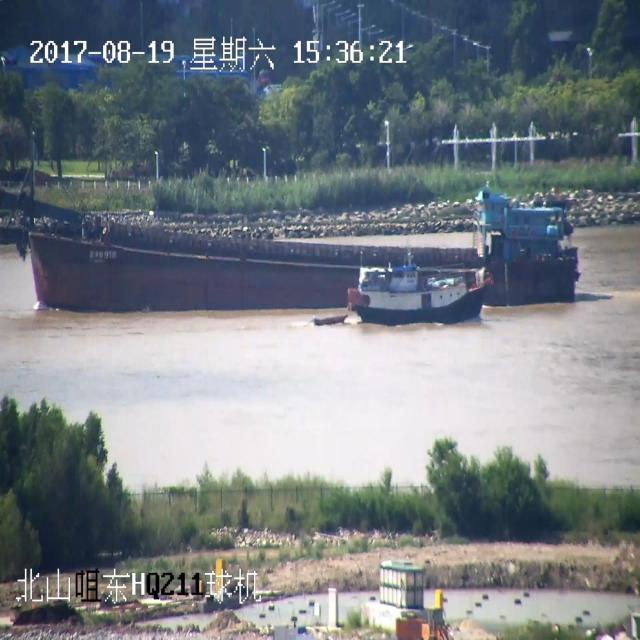cargoship: (19, 140, 581, 336), (327, 248, 496, 338)
